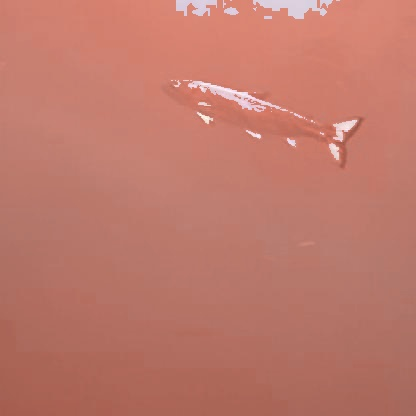salmon: (156, 73, 366, 168)
